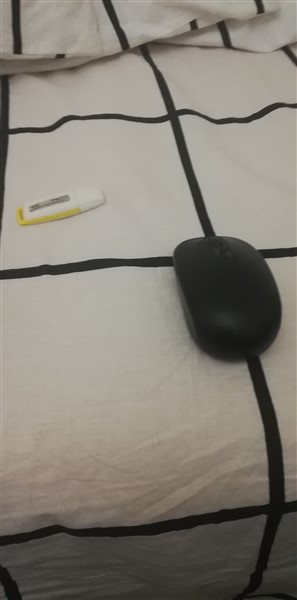flash disk: (15, 183, 105, 225)
mouse: (170, 227, 288, 366)
